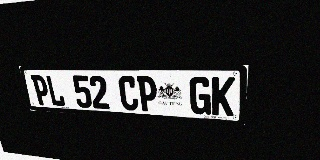2: (88, 75, 110, 109)
5: (72, 75, 93, 108)
C: (118, 76, 139, 111)
G: (189, 76, 211, 115)
K: (211, 77, 235, 116)
L: (45, 75, 66, 107)
P: (136, 76, 158, 112), (30, 75, 51, 106)
